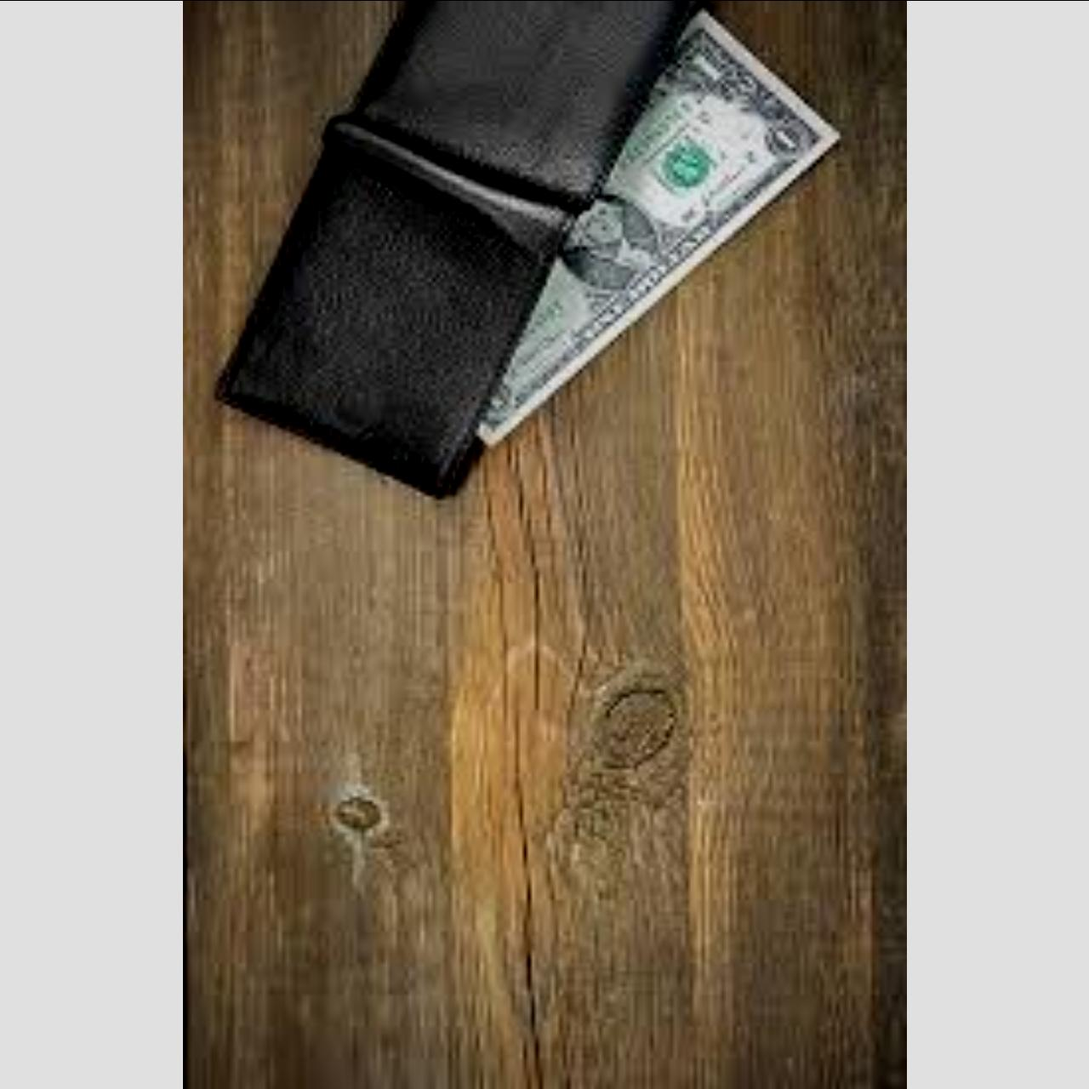wallet: (220, 0, 659, 491)
